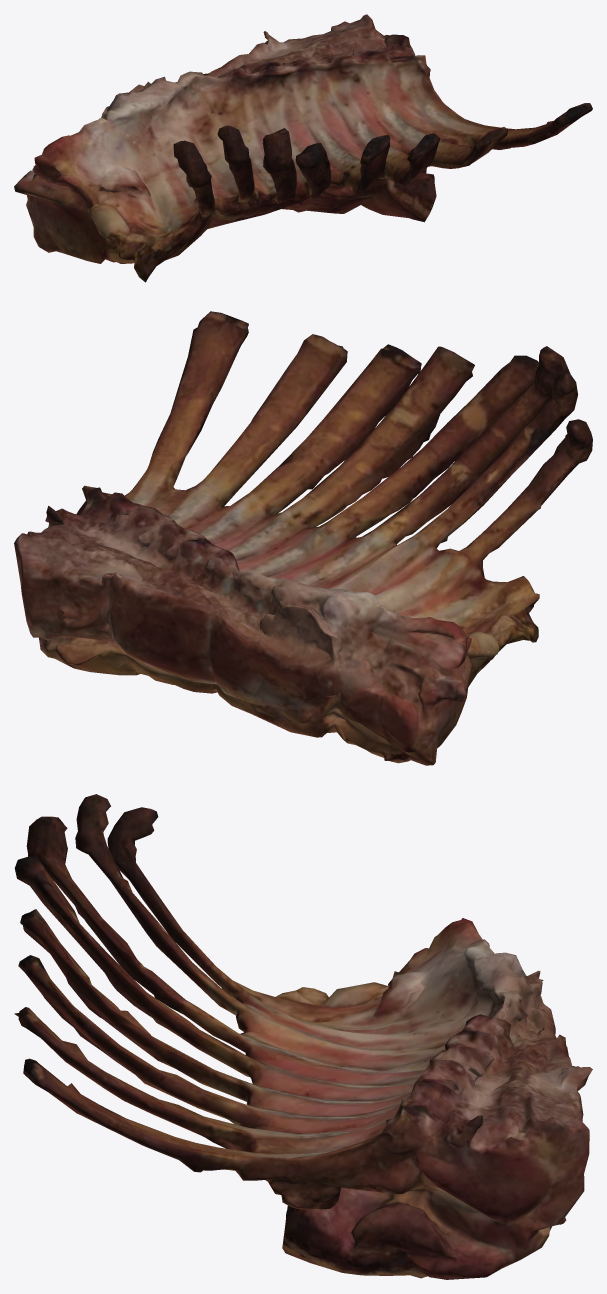
The model's file is meat_b.glb.
The picture shows the model from 3 angles, top to bottom: view 1: azimuth 30°, elevation 25°; view 2: azimuth 150°, elevation 25°; view 3: azimuth 270°, elevation 25°; orthographic projection. The views are drawn at different scales.
Visible parts, largest first — view 1: wktpfaks_LOD0_TIER2_000; view 2: wktpfaks_LOD0_TIER2_000; view 3: wktpfaks_LOD0_TIER2_000.
Part boxes in pixels (<box>): wktpfaks_LOD0_TIER2_000: <box>14,14,592,282</box>; wktpfaks_LOD0_TIER2_000: <box>14,311,592,765</box>; wktpfaks_LOD0_TIER2_000: <box>14,794,592,1279</box>.
Bounding box in the file's own units: 0.2032 × 0.1106 × 0.1879.
1 material, 1 textured.
